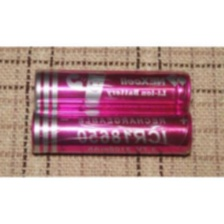battery: (29, 107, 195, 158), (31, 68, 192, 113)
